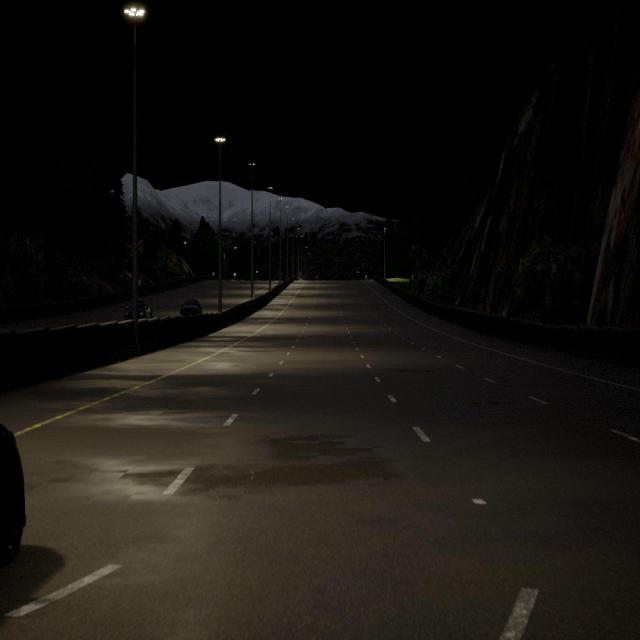Vehicle: (0, 422, 26, 573), (125, 302, 153, 319), (180, 300, 202, 316)
